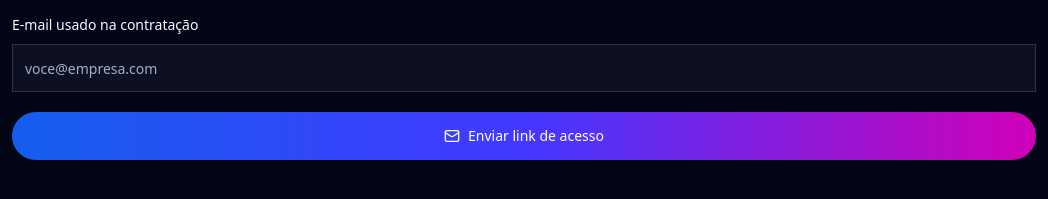
PortalAccessForm › substitui o formulário pela confirmação depois do envio
Type "cliente@example.com" into the field labelled "E-mail usado na contratação" at (524, 68), box [12,44,1036,92]
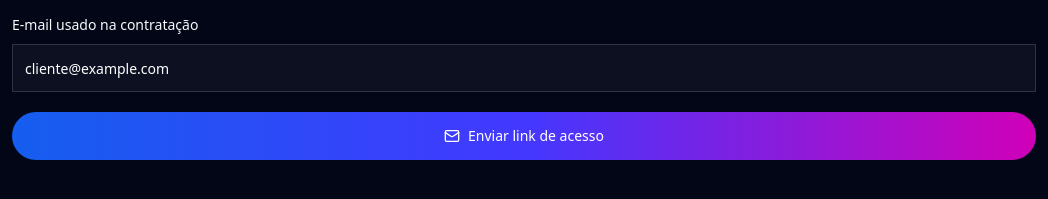
Click the button "Enviar link de acesso" at (524, 136), box [12,112,1036,160]
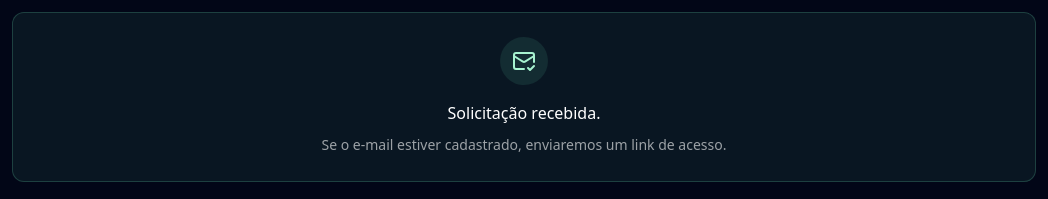
Now the message shows "Se o e-mail estiver cadastrado, enviaremos um link de acesso.", box [322,135,726,154]
Now the button "Enviar link de acesso" is gone
Now the label labelled "E-mail usado na contratação" is gone
